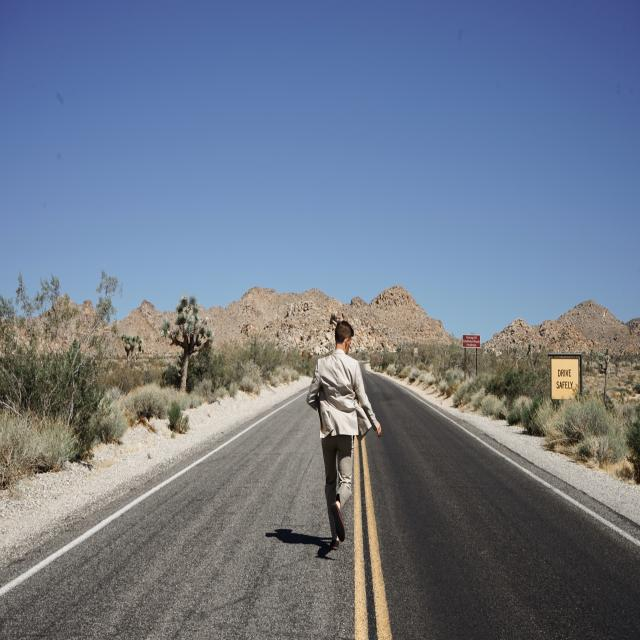running: (307, 316, 386, 556)
